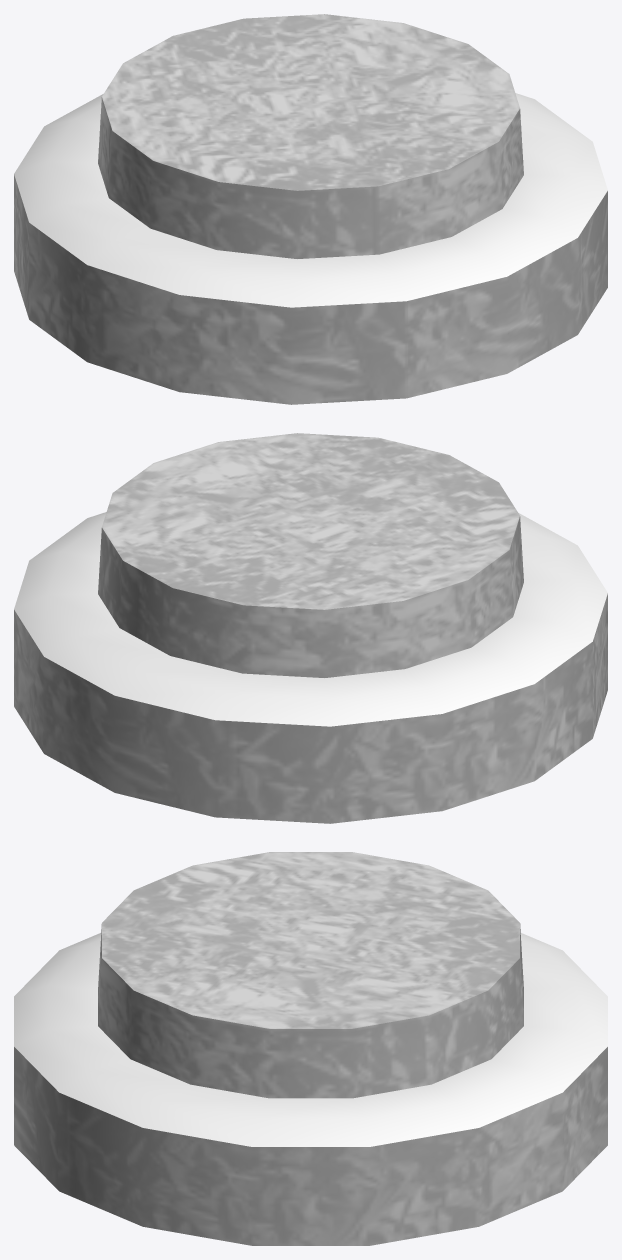
File: trubac.fbx
3 renders of one model, top to bottom at view 1: azimuth 30°, elevation 25°; view 2: azimuth 150°, elevation 25°; view 3: azimuth 270°, elevation 25°, orthographic.
Parts seen in each view (by area): view 1: stand2.003; view 2: stand2.003; view 3: stand2.003.
Boxes of the visible parts, <box> form: stand2.003: <box>14,14,607,404</box>; stand2.003: <box>14,433,607,823</box>; stand2.003: <box>14,852,607,1245</box>.
Bounding box in the file's own units: 195 × 65.06 × 195.
